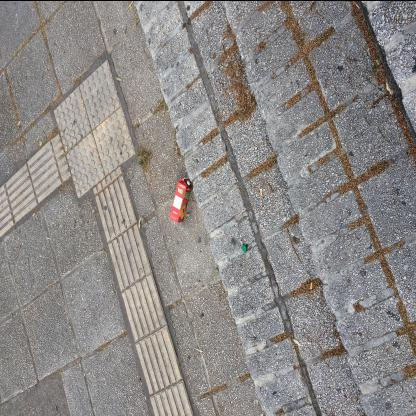karton: (170, 178, 192, 224)
